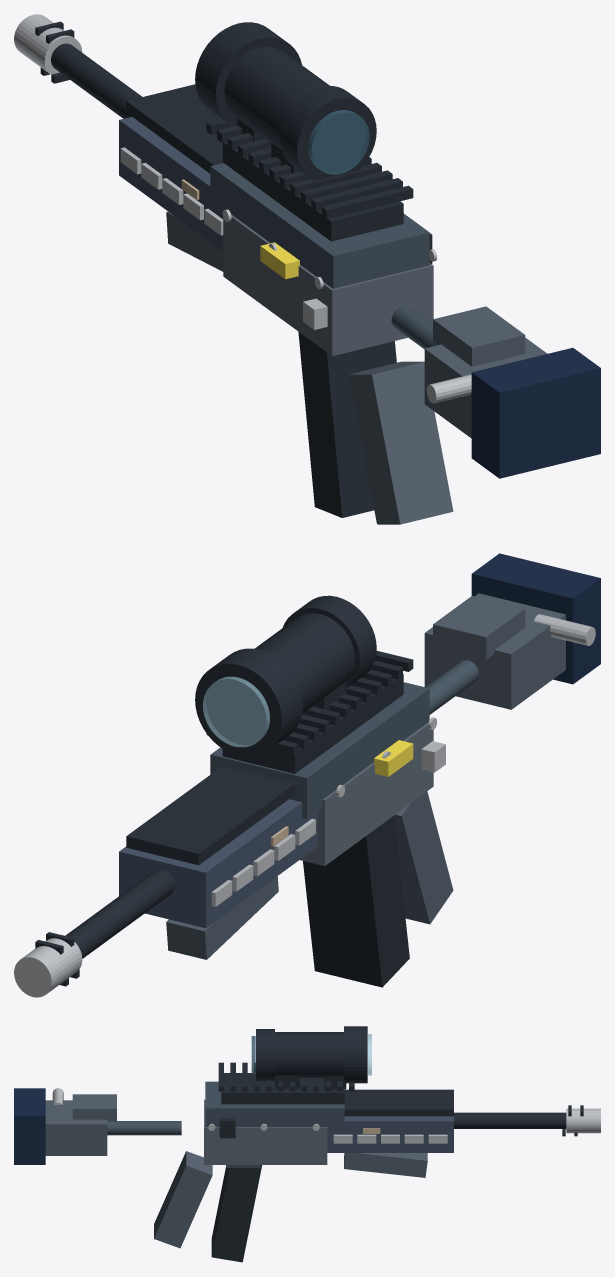
Rendered from rifle_obj_baseline.glb.
3 views of the same model, one above another, from view 1: azimuth 30°, elevation 25°; view 2: azimuth 150°, elevation 25°; view 3: azimuth 270°, elevation 25° (orthographic). The views are drawn at different scales.
Parts seen in each view (by area): view 1: rifle; view 2: rifle; view 3: rifle.
Boxes of the visible parts, x1,y1,x2,y2 form: rifle: (14, 14, 600, 524); rifle: (14, 553, 600, 997); rifle: (14, 1026, 600, 1262).
Size of what is drawn, in the model's own units: 0.5879 by 1.55 by 3.68.
